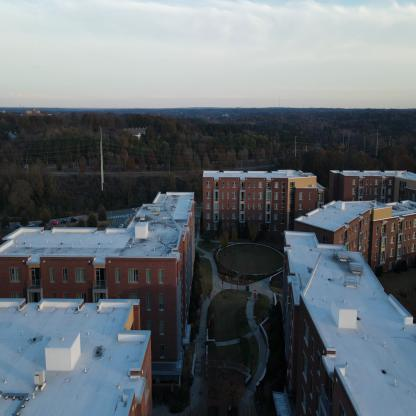Wolf Ridge: (2, 170, 196, 382), (281, 248, 415, 415), (202, 166, 326, 248), (328, 163, 415, 248)
